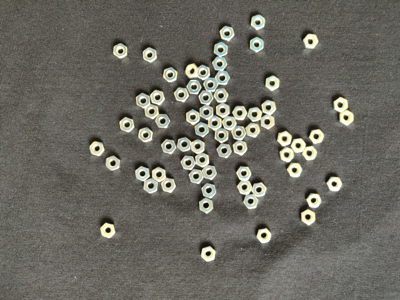nut: (303, 34, 319, 50), (277, 131, 293, 147), (100, 223, 116, 239), (339, 110, 354, 126), (334, 97, 349, 113), (309, 129, 325, 144), (291, 138, 307, 153), (262, 100, 277, 116), (222, 116, 238, 131), (220, 26, 235, 42), (202, 183, 217, 199), (174, 87, 190, 102), (163, 67, 178, 83), (143, 47, 158, 63), (152, 167, 167, 183), (144, 178, 159, 194), (136, 166, 151, 182), (252, 14, 266, 31), (114, 43, 128, 60), (257, 229, 272, 244), (266, 76, 281, 91), (244, 195, 259, 210), (237, 166, 252, 181), (246, 123, 261, 138), (232, 126, 247, 141), (233, 106, 248, 121), (214, 42, 229, 57), (199, 90, 214, 105), (187, 80, 202, 95), (181, 156, 196, 171), (177, 137, 192, 152), (162, 139, 177, 154), (162, 178, 177, 193), (139, 128, 154, 143), (120, 118, 135, 133), (106, 156, 121, 171), (327, 177, 343, 191), (302, 147, 318, 161), (215, 71, 231, 85), (200, 198, 214, 214), (195, 122, 209, 138), (151, 90, 165, 106), (145, 104, 159, 120), (137, 93, 151, 109), (307, 194, 322, 208), (302, 210, 316, 225), (288, 163, 303, 177), (280, 148, 295, 162), (261, 115, 275, 130), (252, 183, 267, 197), (238, 181, 253, 195), (248, 108, 263, 122), (233, 141, 248, 155), (213, 57, 228, 71), (214, 89, 229, 103), (217, 103, 231, 118), (218, 143, 232, 158), (200, 105, 214, 120), (204, 78, 219, 92), (186, 64, 200, 79), (202, 247, 216, 262), (202, 166, 217, 180), (196, 153, 210, 168), (189, 170, 204, 184), (191, 139, 205, 154), (156, 114, 171, 128), (90, 142, 105, 156), (251, 37, 264, 53), (209, 116, 222, 131), (198, 66, 211, 81), (187, 110, 200, 125), (216, 129, 229, 143)
